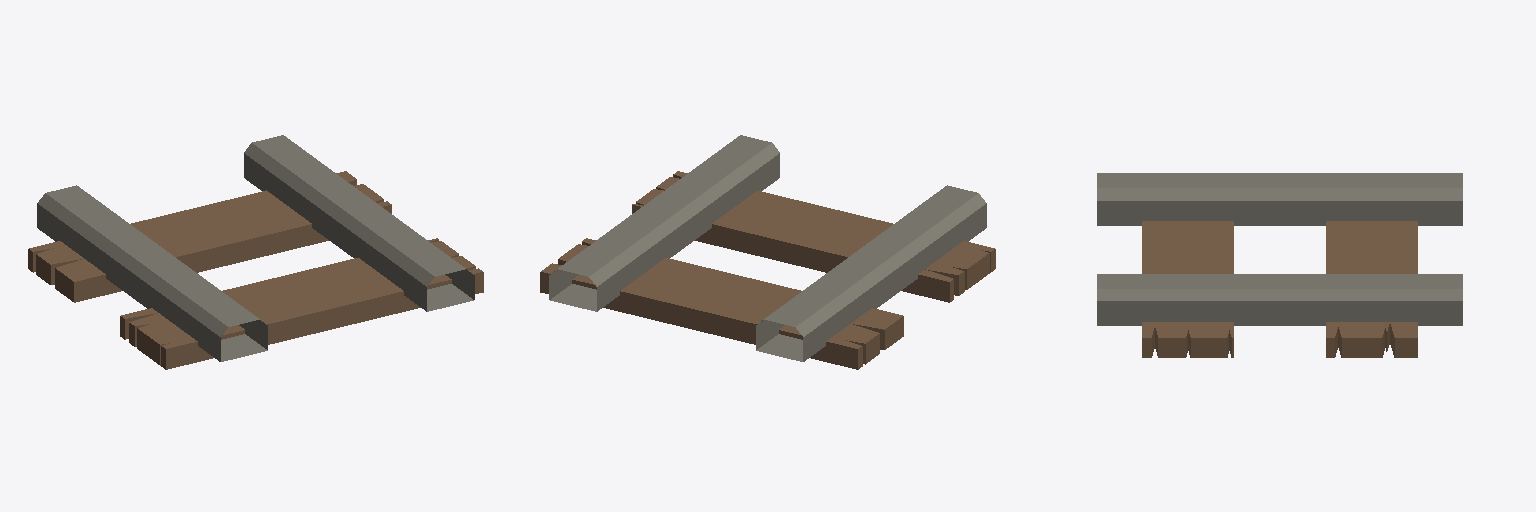
The model's file is Cave_Prop_Railway_Straight_2.obj.
3 views of the same model, side by side, from view 1: azimuth 30°, elevation 25°; view 2: azimuth 150°, elevation 25°; view 3: azimuth 270°, elevation 25° (orthographic).
Parts seen in each view (by area): view 1: object3, object1, object4, object2; view 2: object3, object1, object2, object4; view 3: object1, object3, object4, object2.
Boxes of the visible parts, x1=… form: object3: x1=244, y1=135, x2=474, y2=311; object1: x1=37, y1=185, x2=267, y2=361; object4: x1=120, y1=238, x2=483, y2=369; object2: x1=28, y1=171, x2=391, y2=302; object3: x1=549, y1=135, x2=779, y2=311; object1: x1=756, y1=185, x2=986, y2=361; object2: x1=540, y1=238, x2=903, y2=369; object4: x1=632, y1=171, x2=995, y2=302; object1: x1=1097, y1=173, x2=1462, y2=225; object3: x1=1097, y1=274, x2=1462, y2=325; object4: x1=1142, y1=221, x2=1233, y2=357; object2: x1=1326, y1=221, x2=1417, y2=357.
Size of the model in its own units: 1 by 0.15 by 1.